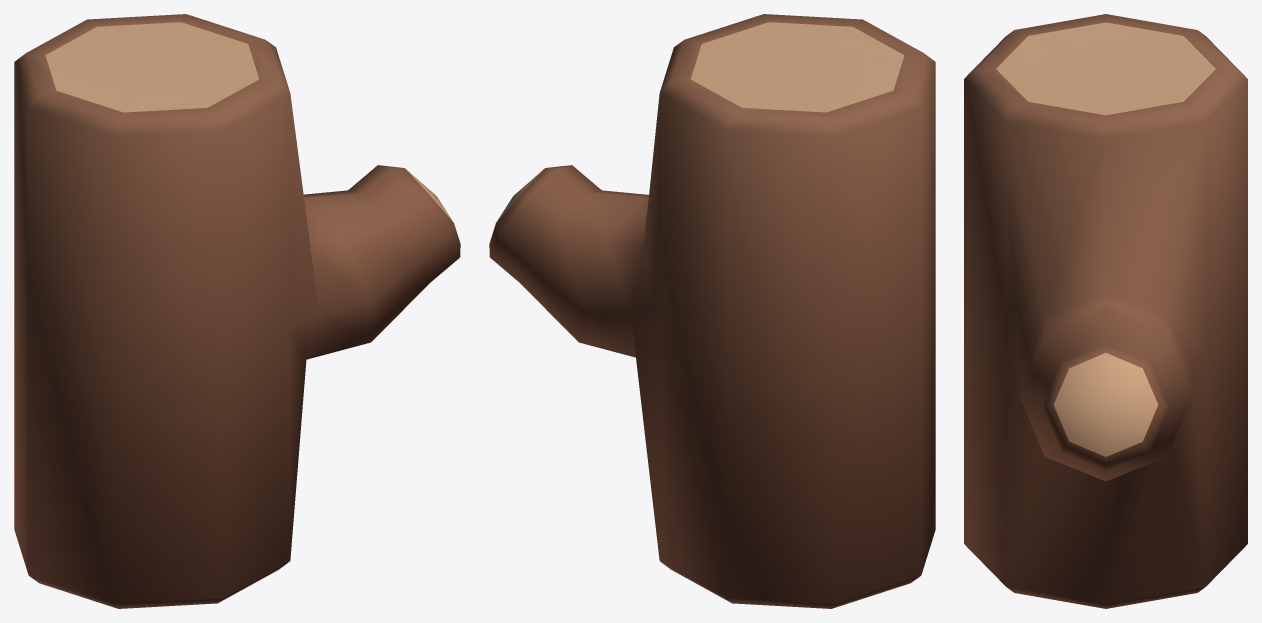
The model's file is Prop_Collectible_Log.fbx.
The picture shows the model from 3 angles, left to right: view 1: azimuth 30°, elevation 25°; view 2: azimuth 150°, elevation 25°; view 3: azimuth 270°, elevation 25°; orthographic projection.
Parts seen in each view (by area): view 1: Log_01; view 2: Log_01; view 3: Log_01.
Boxes of the visible parts, box(x1,y1,x2,y2) form: Log_01: box(14, 14, 460, 608); Log_01: box(489, 14, 935, 608); Log_01: box(964, 14, 1247, 608).
Size of the model in its own units: 40.77 by 45.09 by 23.91.
